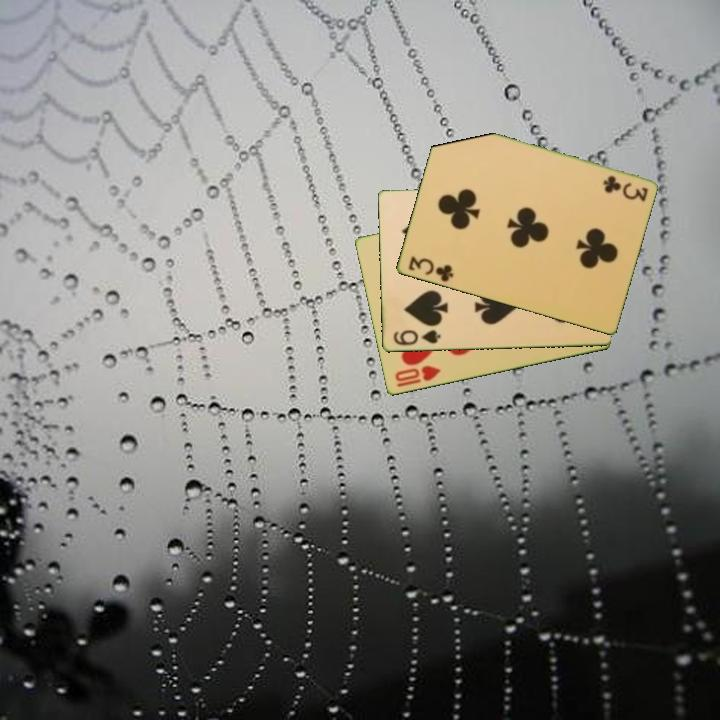10h: (391, 362, 444, 385)
3c: (404, 253, 456, 285), (599, 172, 651, 204)
6s: (389, 327, 443, 349)
